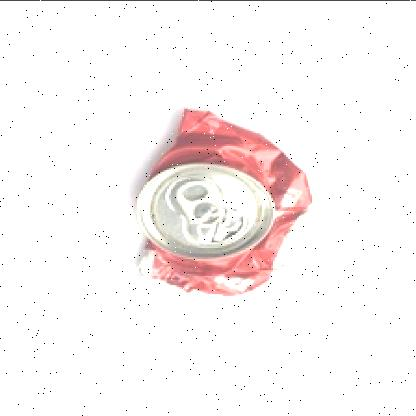Can: (132, 107, 314, 294)
